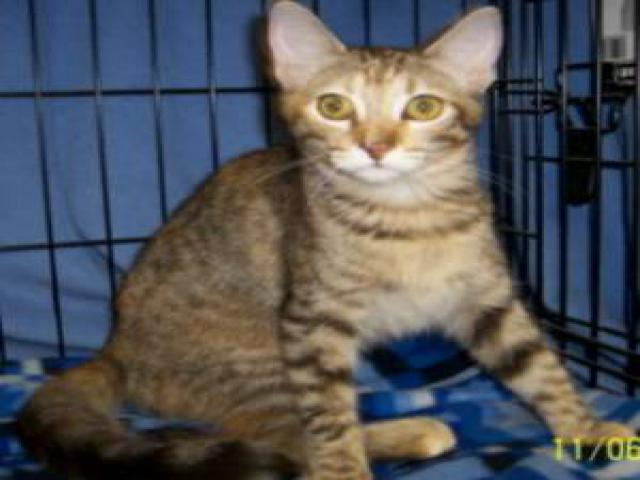cat: (18, 1, 635, 478)
